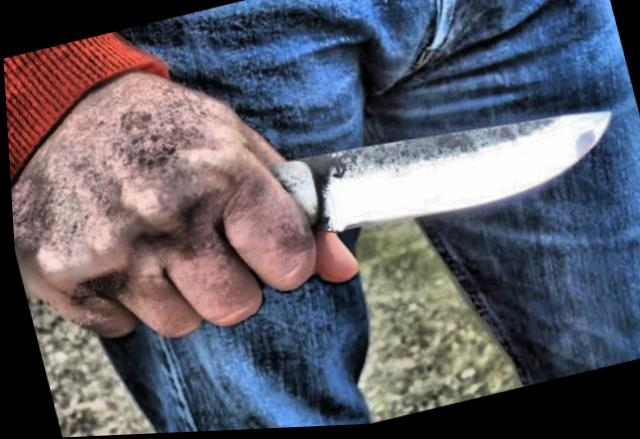knife: (95, 70, 640, 351)
